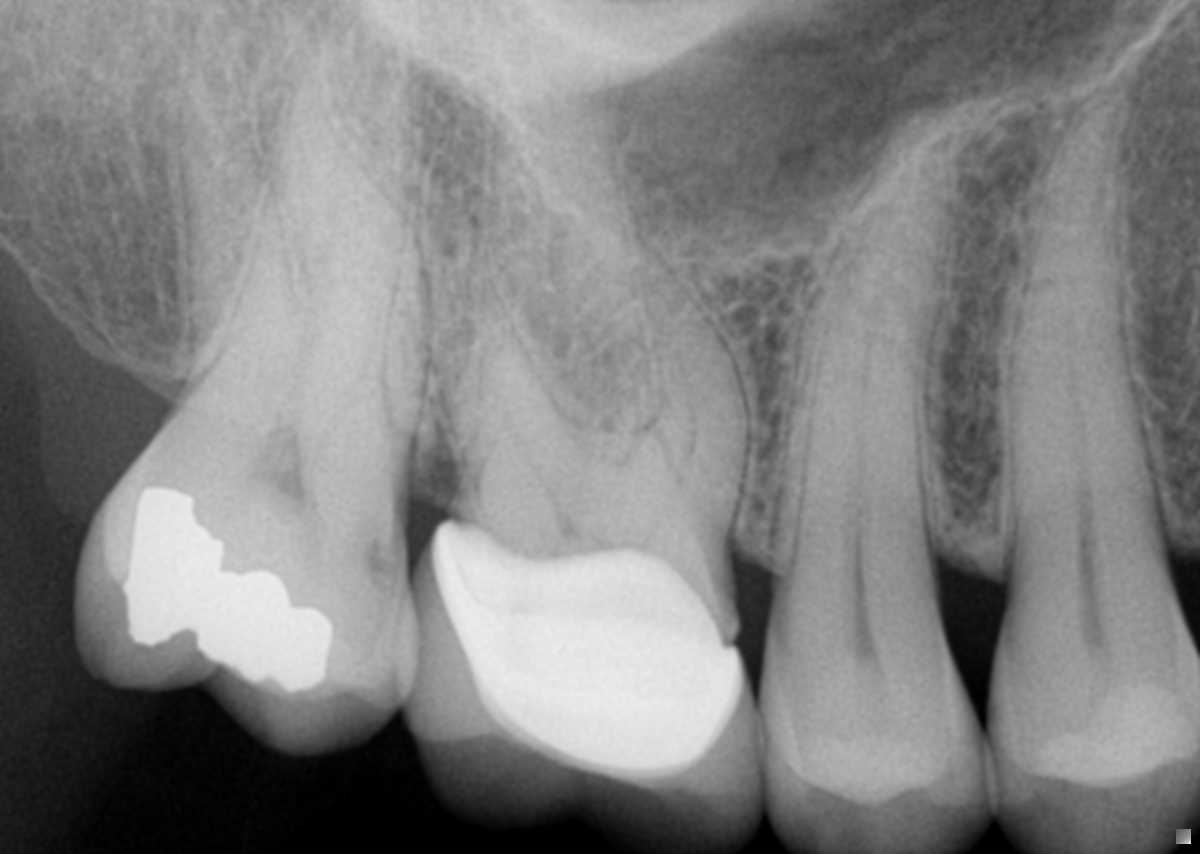Distal Canal: (483, 383, 567, 517)
Distal Root: (414, 216, 590, 536), (177, 0, 298, 382)
Main Canal: (1063, 129, 1097, 544), (842, 338, 873, 563)
Main Root: (770, 119, 952, 563), (1008, 95, 1162, 551)
Mesial Canal: (652, 329, 695, 540)
Mesial Root: (250, 7, 429, 470), (589, 224, 748, 557)
Palatal Root: (458, 0, 670, 499), (198, 0, 429, 443)
